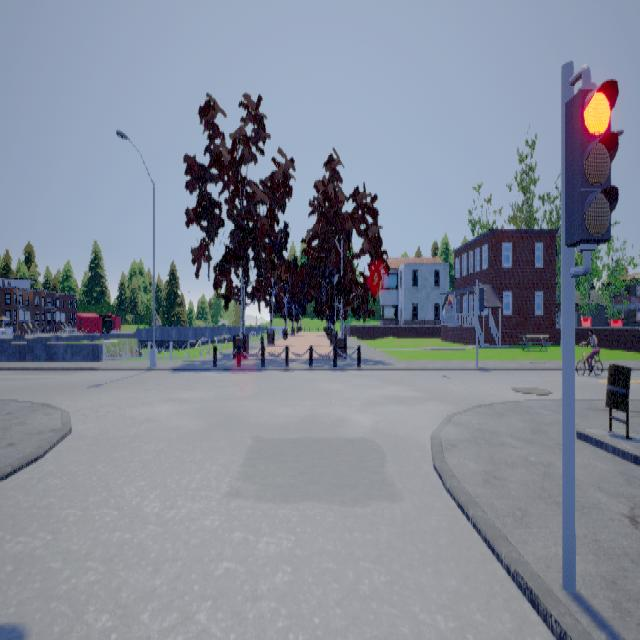bike: (572, 328, 606, 372)
red_light: (564, 62, 618, 276)
